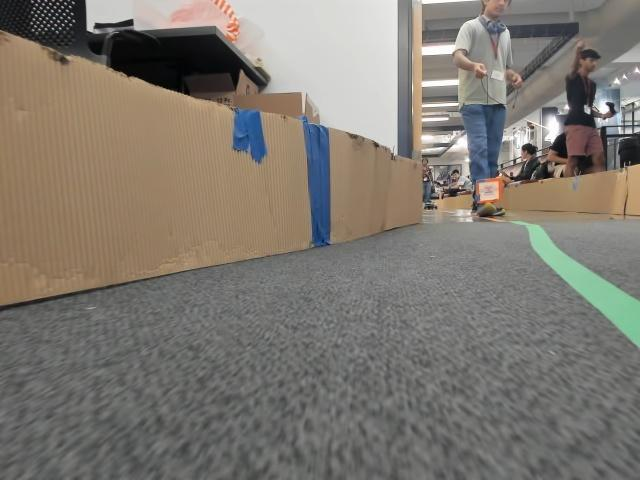Do Not Go Around: (481, 184, 496, 194)
